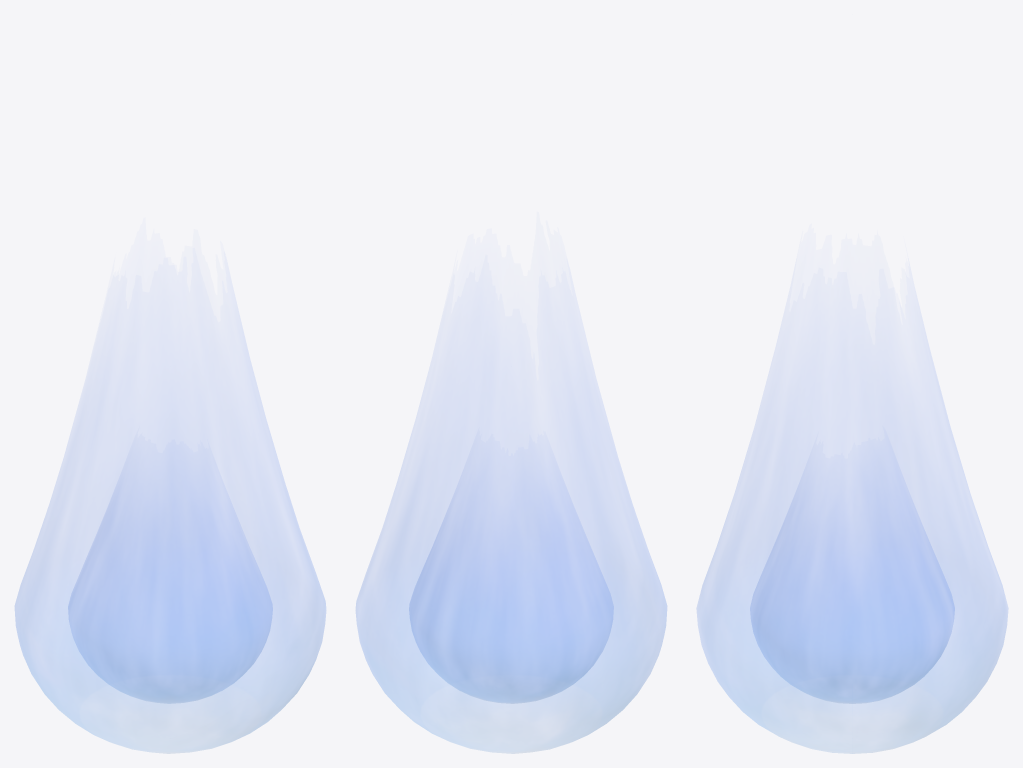
File: head_azure.glb
3 views of the same model, side by side, from view 1: azimuth 30°, elevation 25°; view 2: azimuth 150°, elevation 25°; view 3: azimuth 270°, elevation 25° (orthographic).
Parts seen in each view (by area): view 1: head; view 2: head; view 3: head.
Boxes of the visible parts, x1,y1,x2,y2 form: head: [15, 401, 325, 753]; head: [356, 404, 666, 753]; head: [697, 400, 1007, 753].
Size of the model in its own units: 3.5 by 8.96 by 3.5.
Materials: 2 (2 with a texture image).
